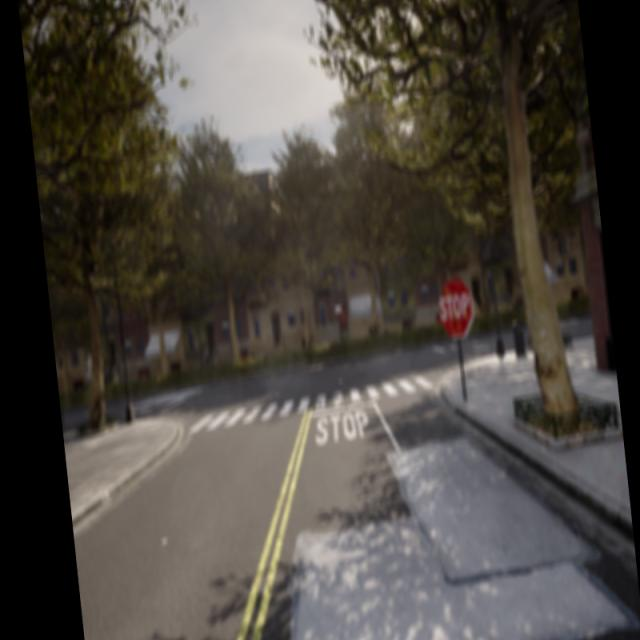stop sign: (435, 274, 476, 341)
